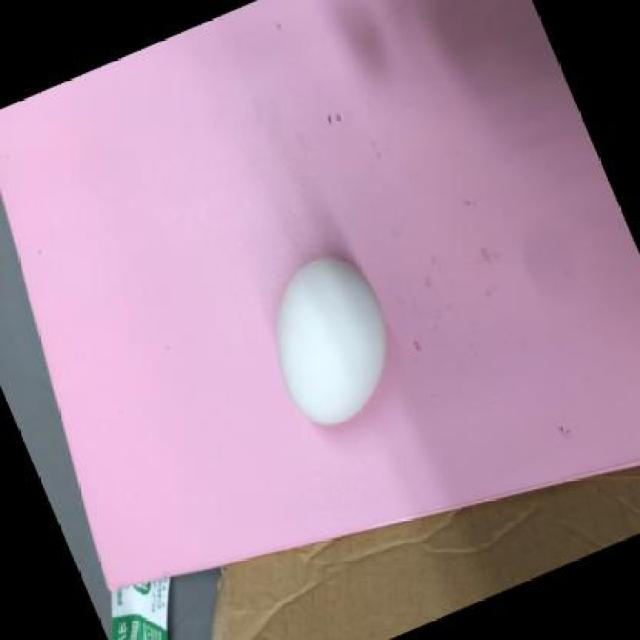egg: (271, 252, 391, 428)
